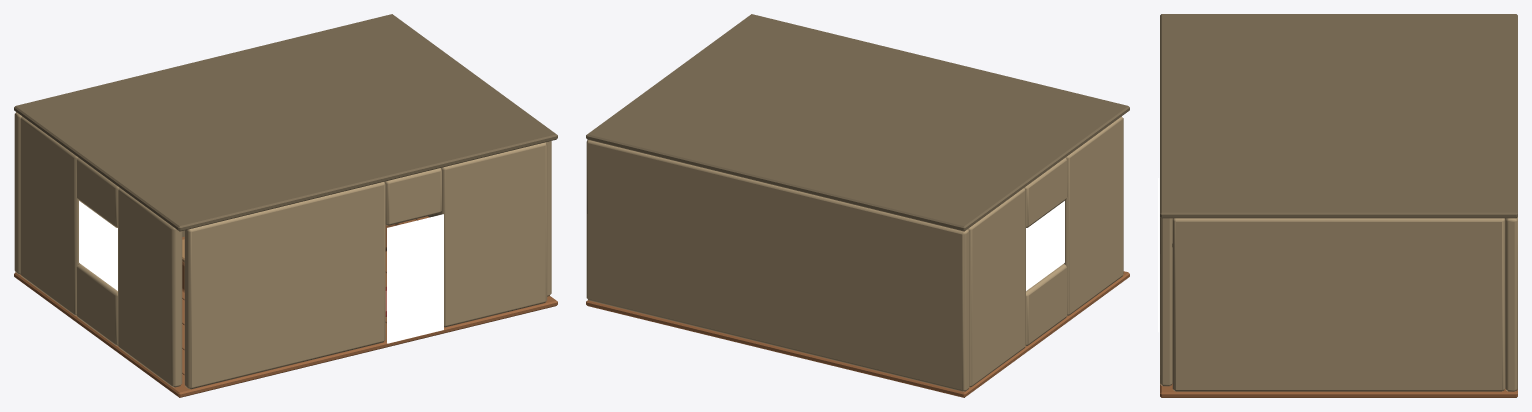
File: office_room.glb
The picture shows the model from 3 angles, left to right: view 1: azimuth 30°, elevation 25°; view 2: azimuth 150°, elevation 25°; view 3: azimuth 270°, elevation 25°; orthographic projection. The views are drawn at different scales.
Parts seen in each view (by area): view 1: body; view 2: body; view 3: body.
Part boxes in pixels (x1,y1,x2,y2): body: (14,14,557,397); body: (586,14,1129,397); body: (1158,14,1517,397).
Size of the model in its own units: 7.4 by 3.2 by 5.63.
